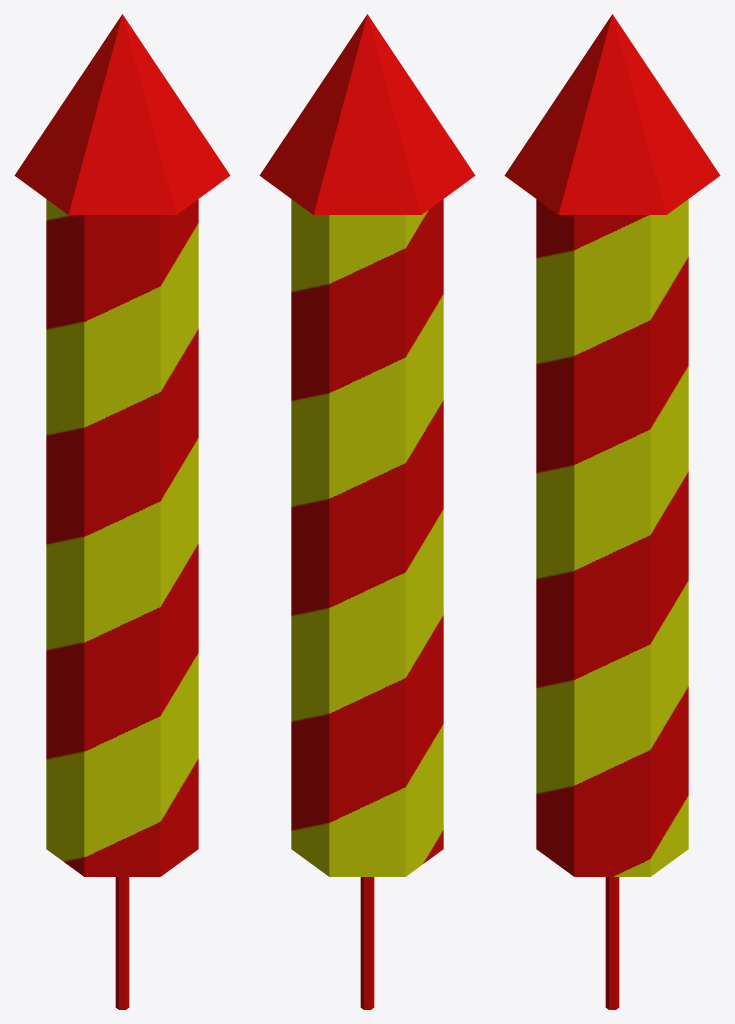
The model's file is Fireworks_1xProjectile.fbx.
3 renders of one model, left to right at view 1: azimuth 30°, elevation 25°; view 2: azimuth 150°, elevation 25°; view 3: azimuth 270°, elevation 25°, orthographic.
Parts seen in each view (by area): view 1: fireworks individual projectile; view 2: fireworks individual projectile; view 3: fireworks individual projectile.
Boxes of the visible parts, x1=… form: fireworks individual projectile: x1=14, y1=14, x2=230, y2=1009; fireworks individual projectile: x1=259, y1=14, x2=475, y2=1009; fireworks individual projectile: x1=504, y1=14, x2=720, y2=1009.
Size of the model in its own units: 11.23 by 65.82 by 12.97.
